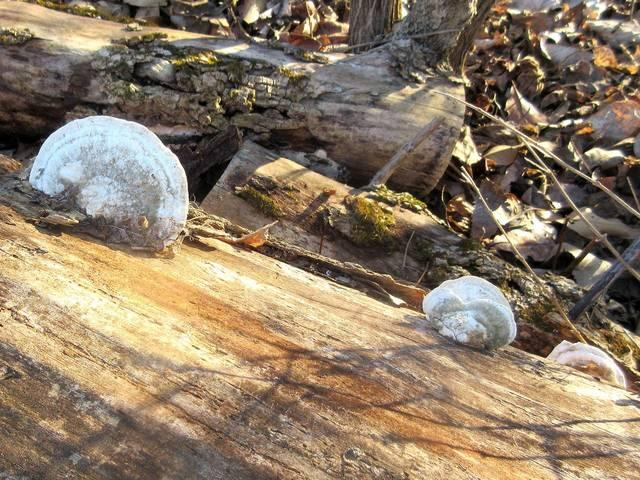Non-edible Mushroom: (27, 113, 189, 254), (420, 274, 517, 352)
